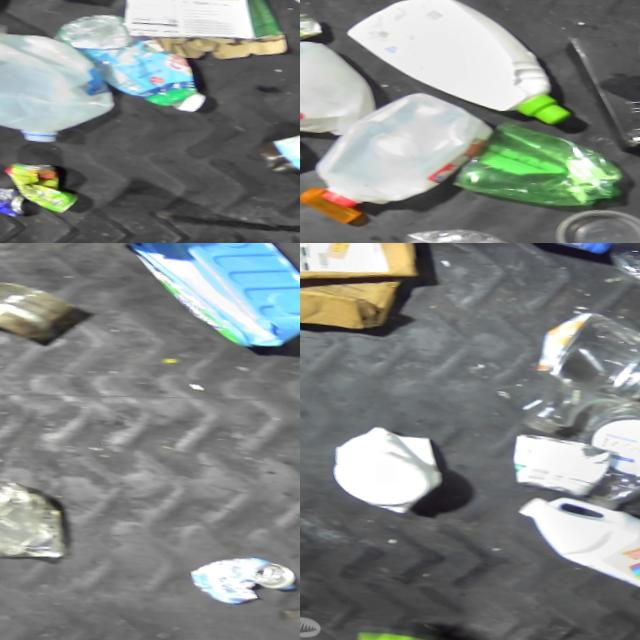can: (172, 538, 299, 615), (0, 270, 85, 356), (0, 156, 68, 213)
milk_jug: (303, 88, 482, 218), (503, 477, 640, 605), (0, 29, 103, 148), (300, 30, 368, 133)
non_white_jug: (117, 243, 300, 355)
